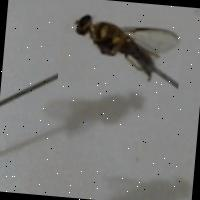Oriental-fruit-fly: (57, 6, 184, 92)
